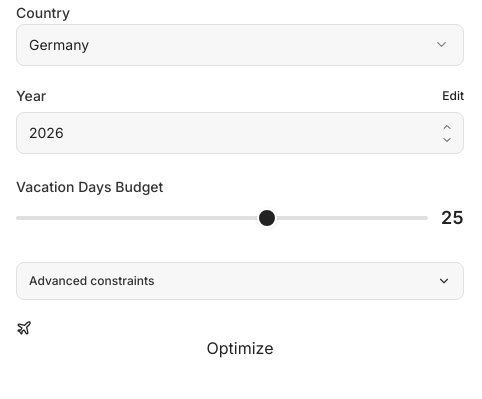
Test: OptimizerForm › auto-fills the preceding month as the end of a planning year while preserving the selected day
This screenshot has width=482, height=399.
Click the button "Edit" at (453, 96), box x1=442 y1=88 x2=464 y2=104
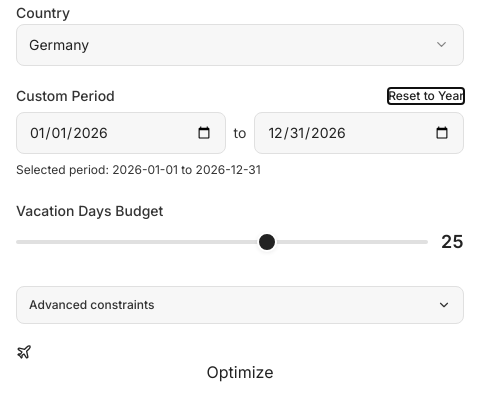
Type "2026-05-12" into the 1st date field named "Start date" at (121, 133), box x1=16 y1=112 x2=226 y2=154
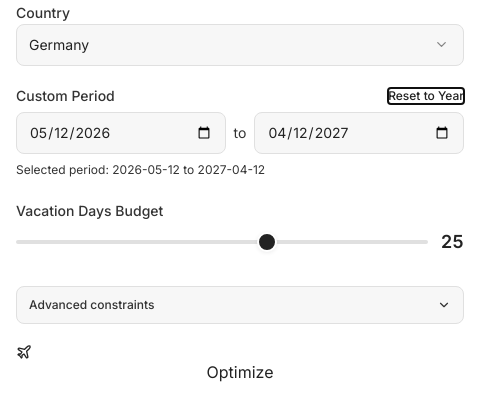
Check: the 2nd date field named "End date" holds "2027-04-12", box x1=254 y1=112 x2=464 y2=154
